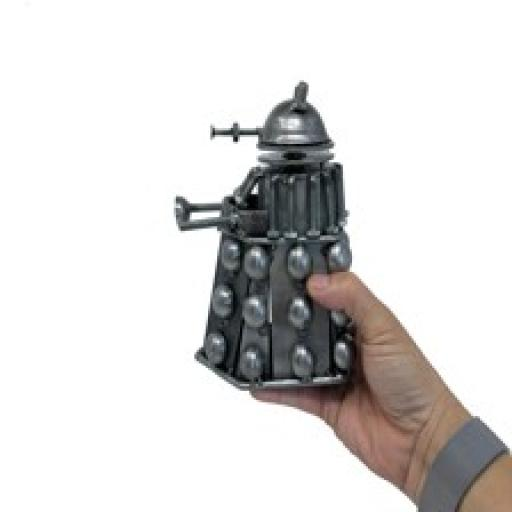dalek: (150, 70, 378, 405)
